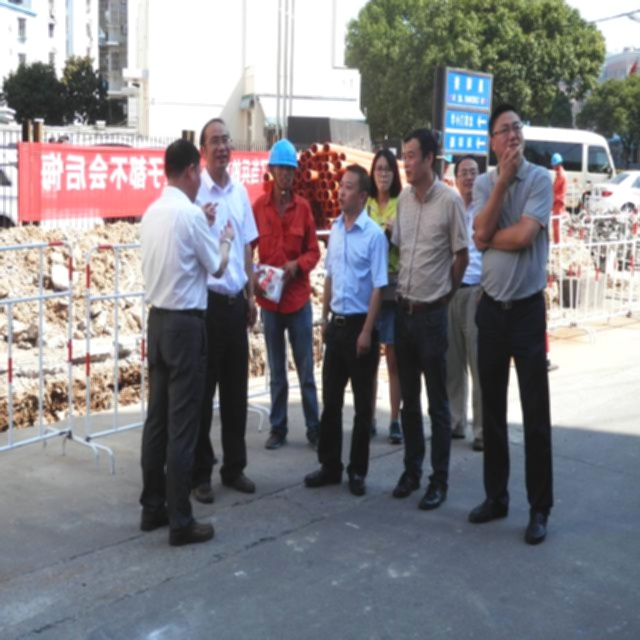Con_Casco: (264, 137, 301, 187)
Sin_Casco_Mascarrilla: (489, 105, 527, 163), (402, 127, 434, 184), (338, 163, 369, 212)
